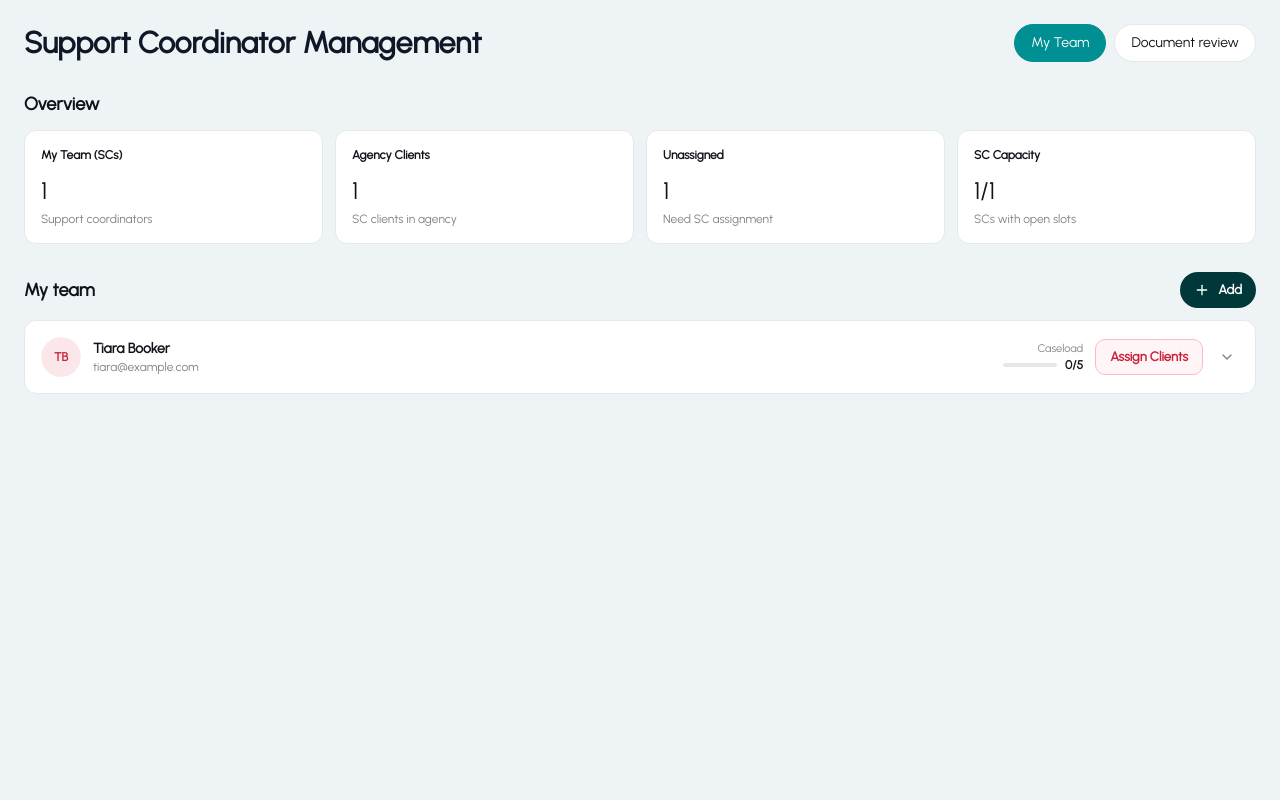
Test case: SupportCoordinatorManagement › loads the team skeleton, assigns a client, and opens document review
Later steps or results of the test are not shown.
Check: the text "Tiara Booker" is shown, box [93, 340, 170, 357]
Click the button "Assign Clients" at (1149, 357), box [1095, 339, 1203, 375]
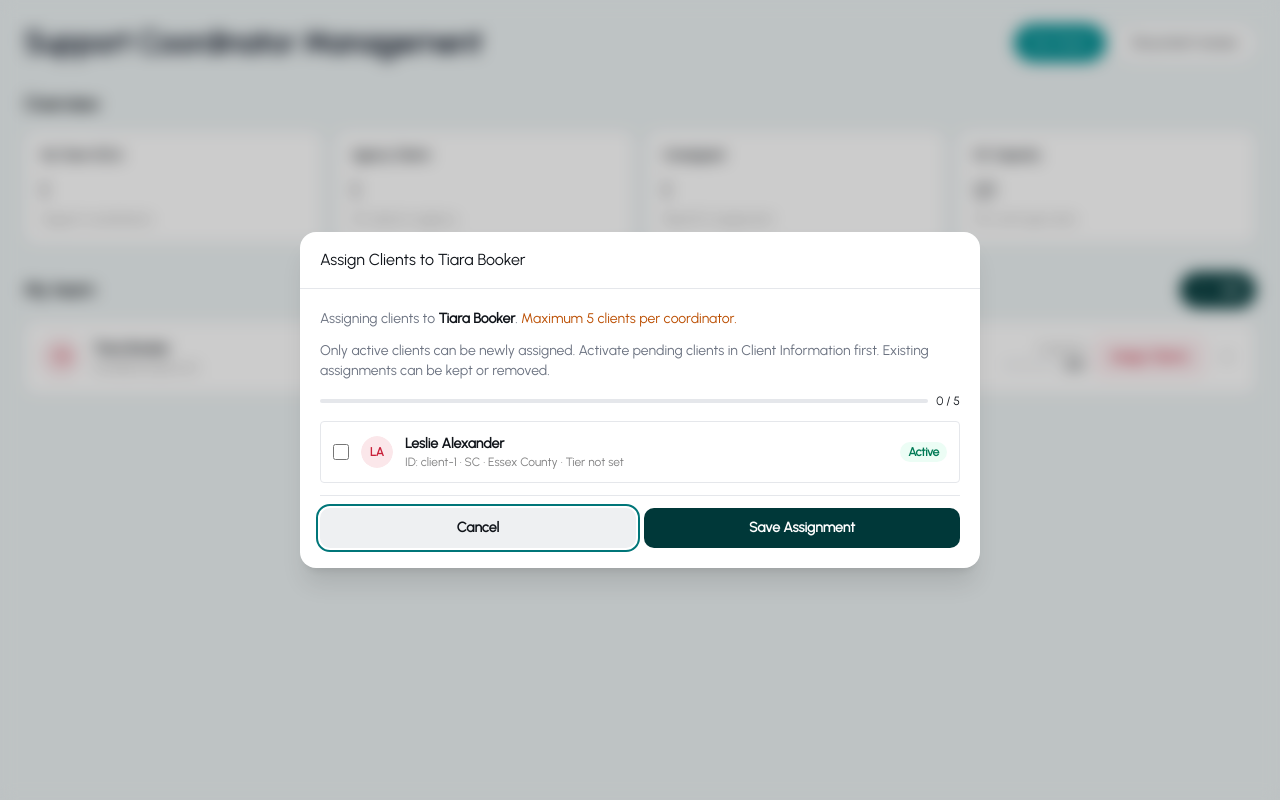
Check: the checkbox named "Assign Leslie Alexander" is shown
Check: the dialog "Assign Clients to Tiara Booker" shows "Essex County", box [488, 455, 558, 469]
Click the checkbox named "Assign Leslie Alexander" at (341, 452), box [333, 444, 349, 460]
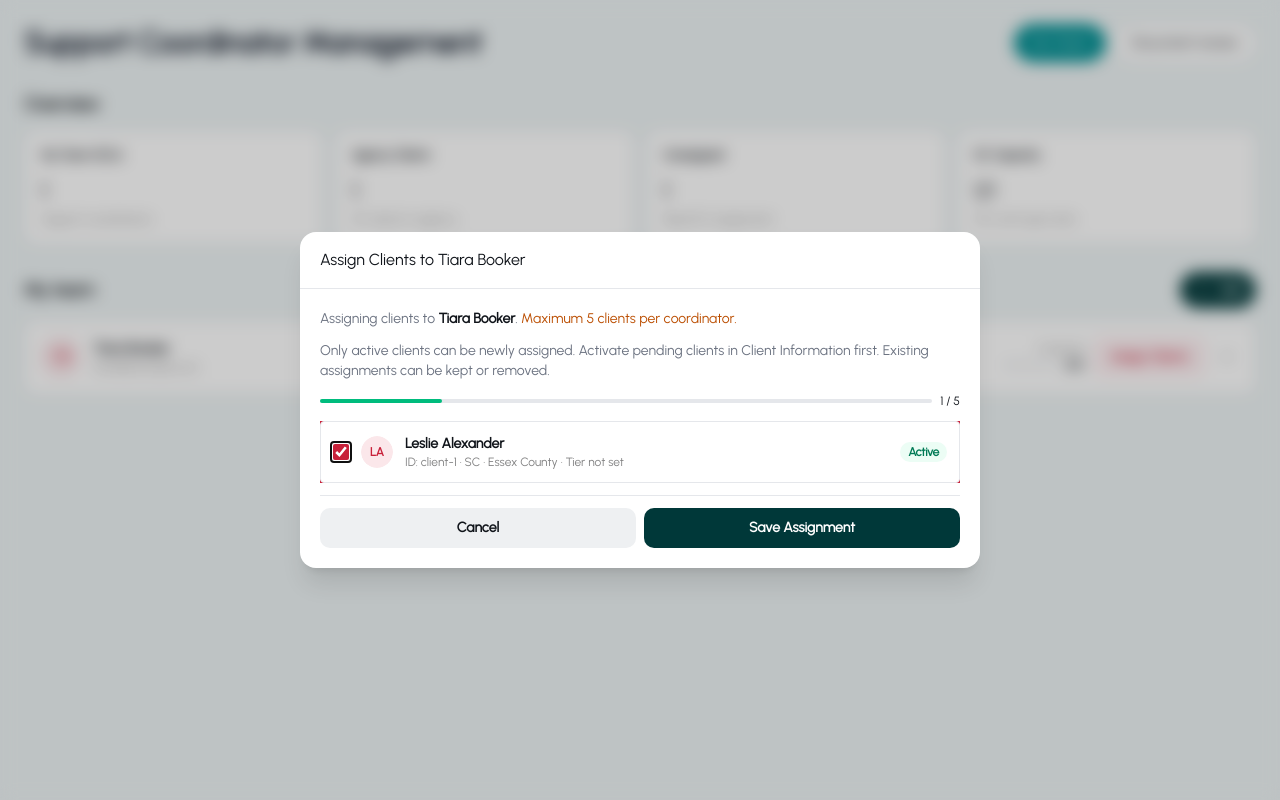
Click the button "Save Assignment" at (802, 528), box [644, 508, 960, 548]
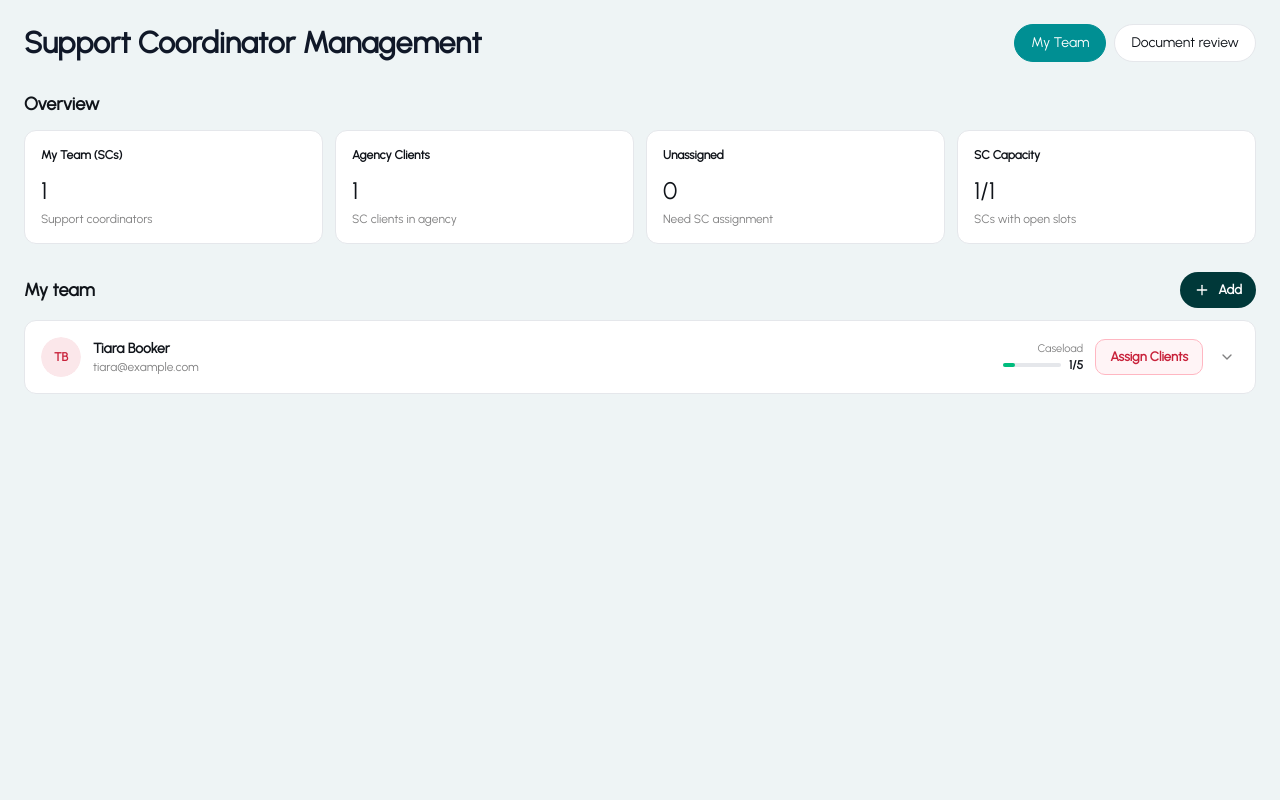
Check: the heading "Assign Clients to Tiara Booker" is gone
Click the button named "Expand Tiara Booker's clients" at (1227, 357), box [1215, 345, 1239, 369]
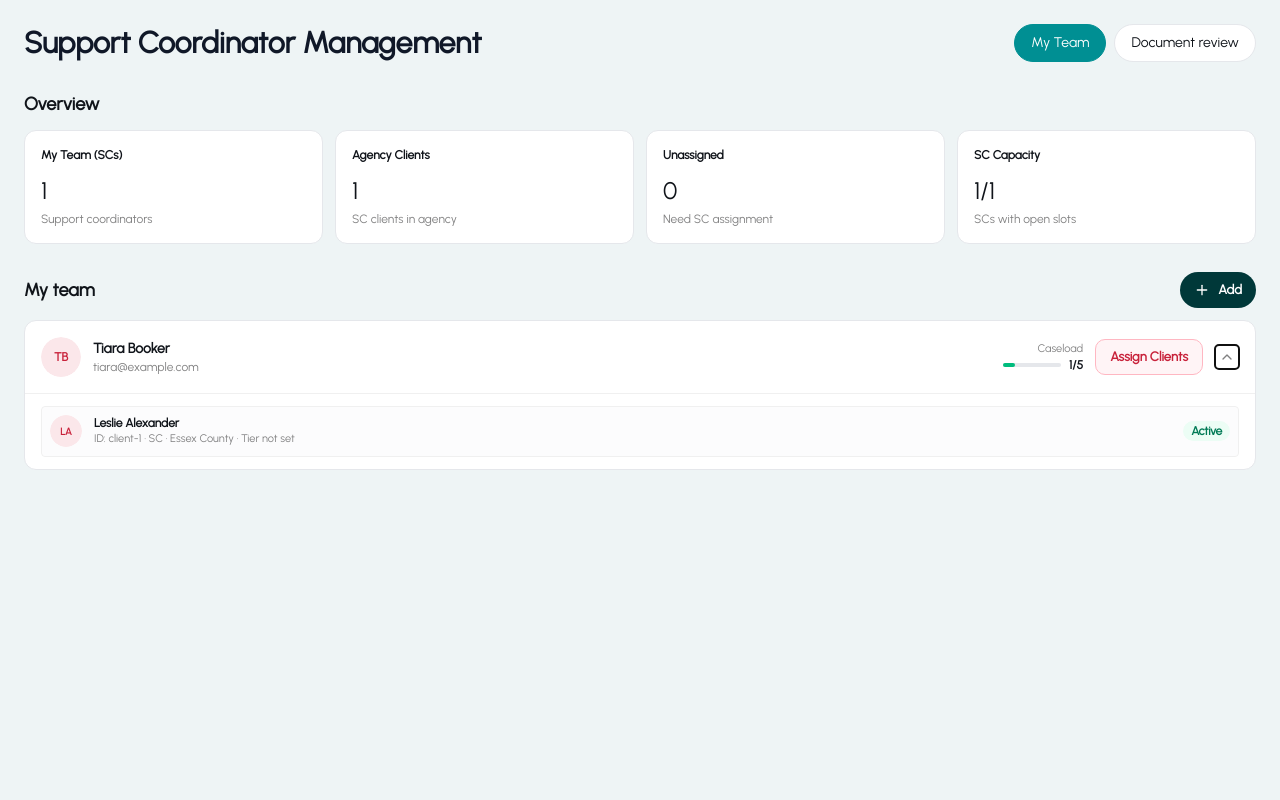
Check: the link "Leslie Alexander" shows "Essex County", box [41, 406, 1239, 456]
